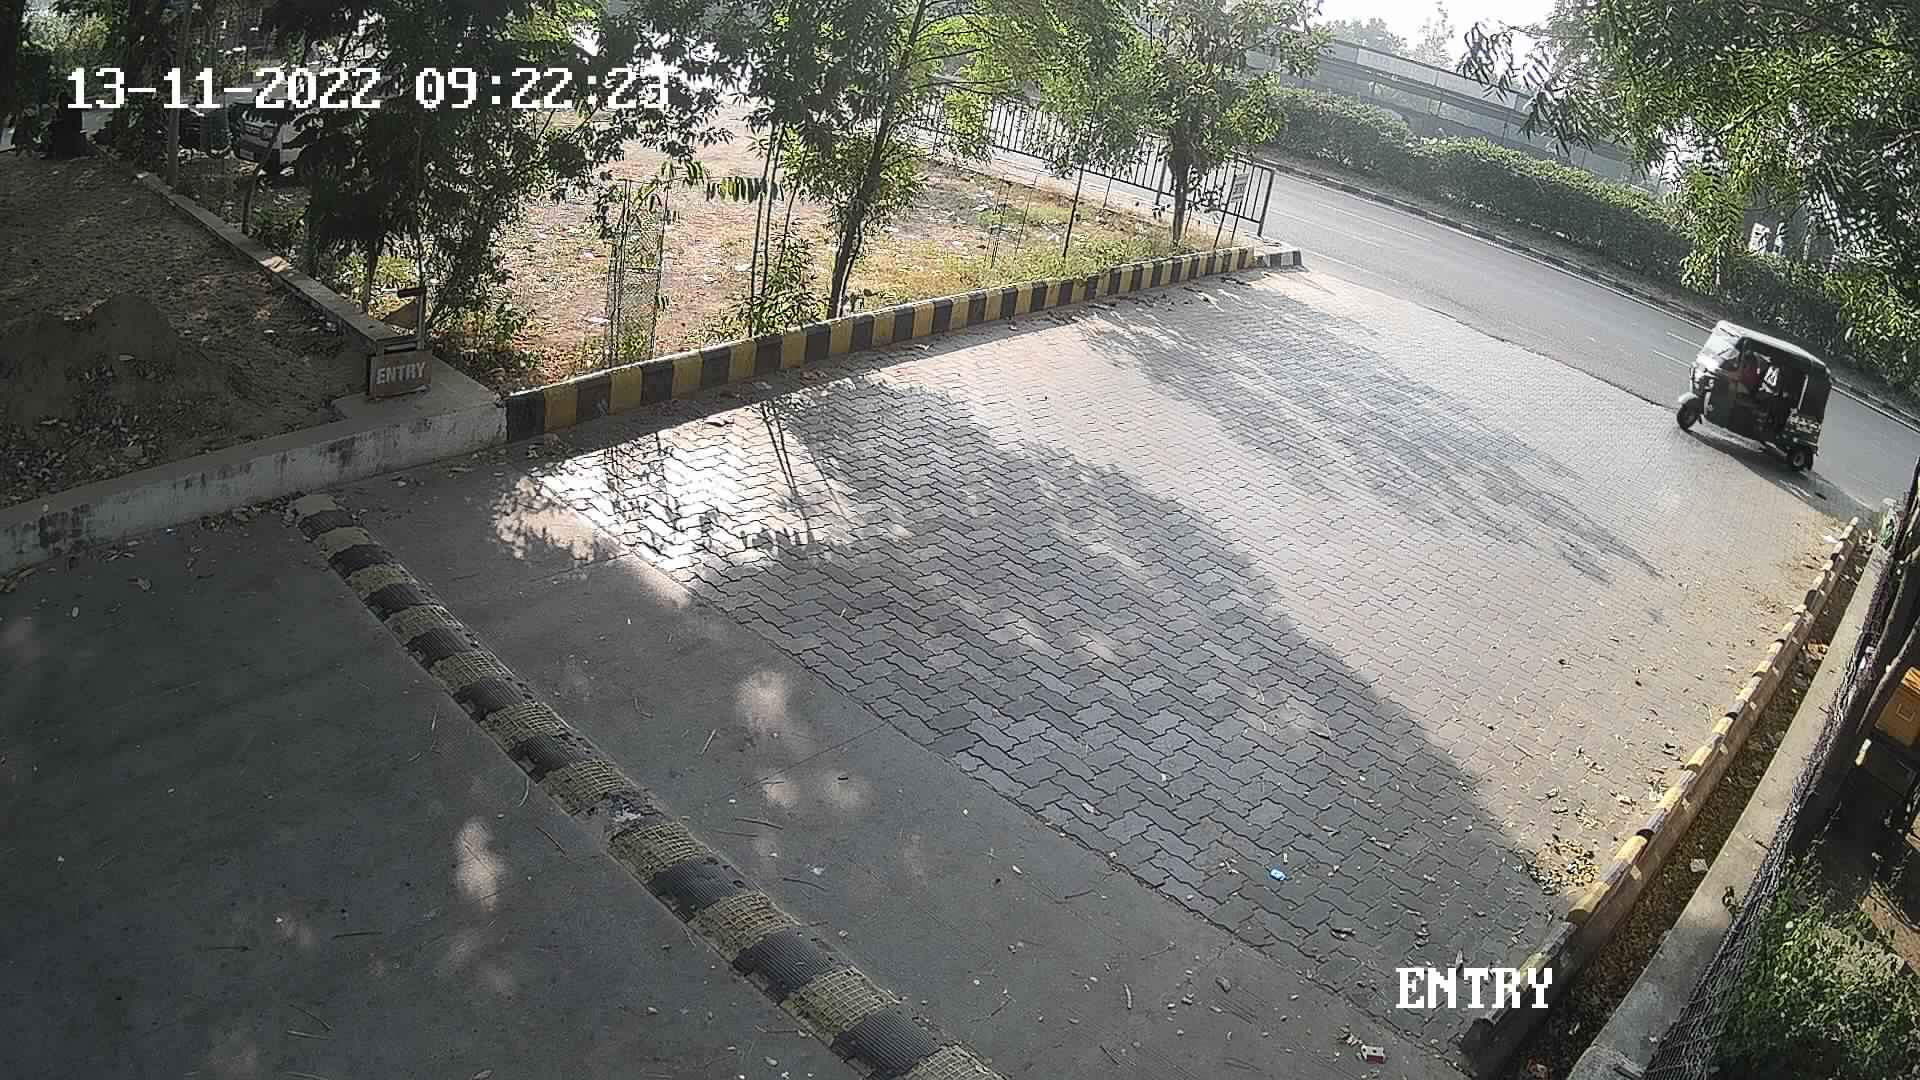Auto: (1664, 309, 1841, 481)
Car: (223, 46, 357, 206)
